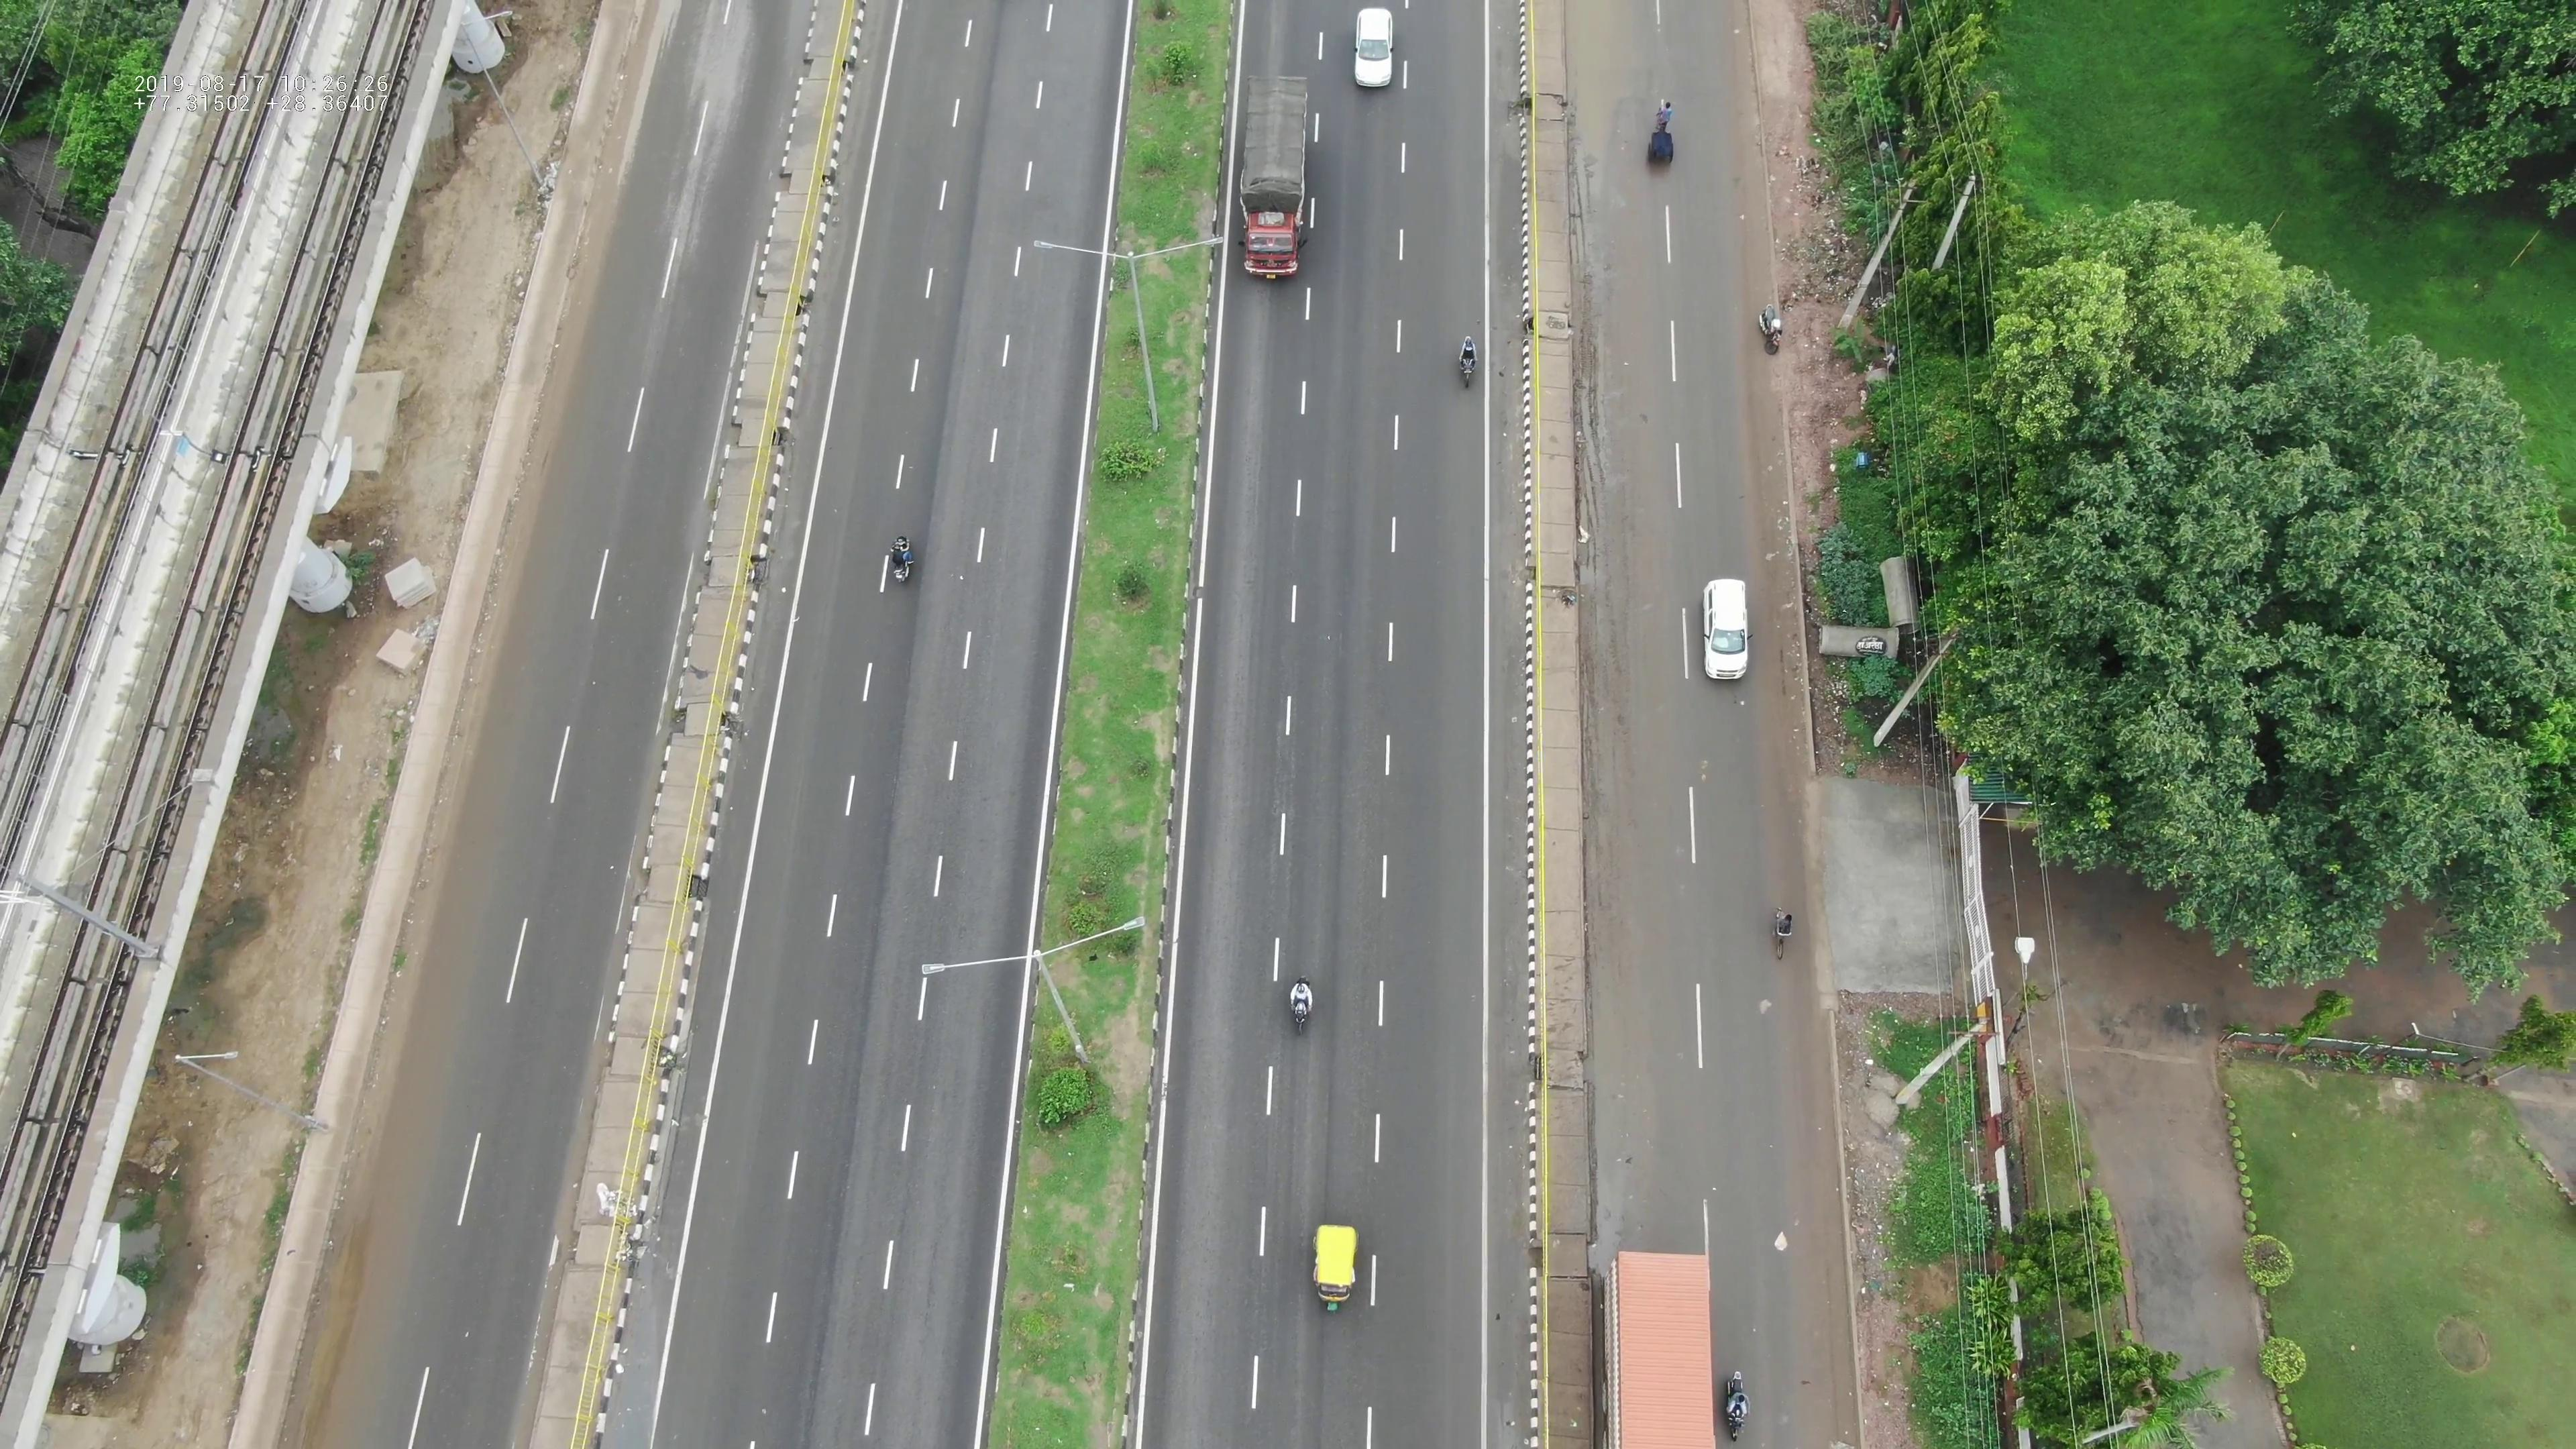Muddy_road: (1568, 363, 1652, 830)
